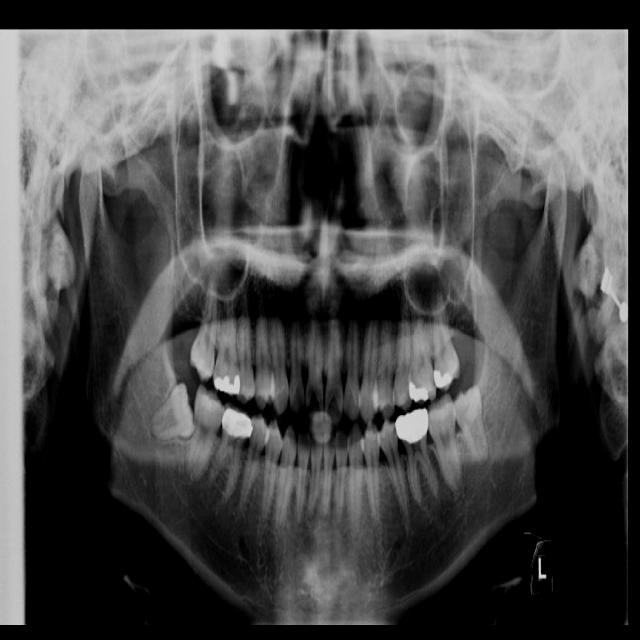Crown: (394, 409, 429, 449), (221, 400, 253, 442)
Filling: (213, 372, 240, 394), (408, 382, 431, 402), (433, 369, 456, 388)
impacted tooth: (454, 387, 488, 465), (149, 386, 196, 442)
